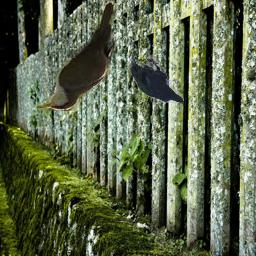Crow: (132, 55, 185, 104)
Cuckoo: (36, 1, 119, 112)
